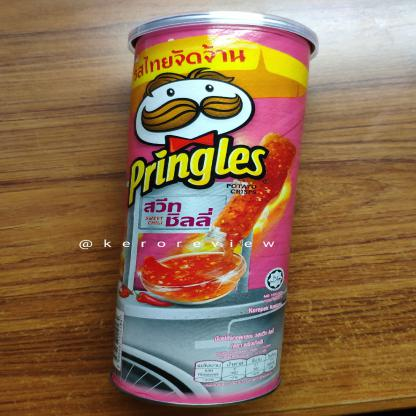potatochip: (121, 10, 320, 408)
